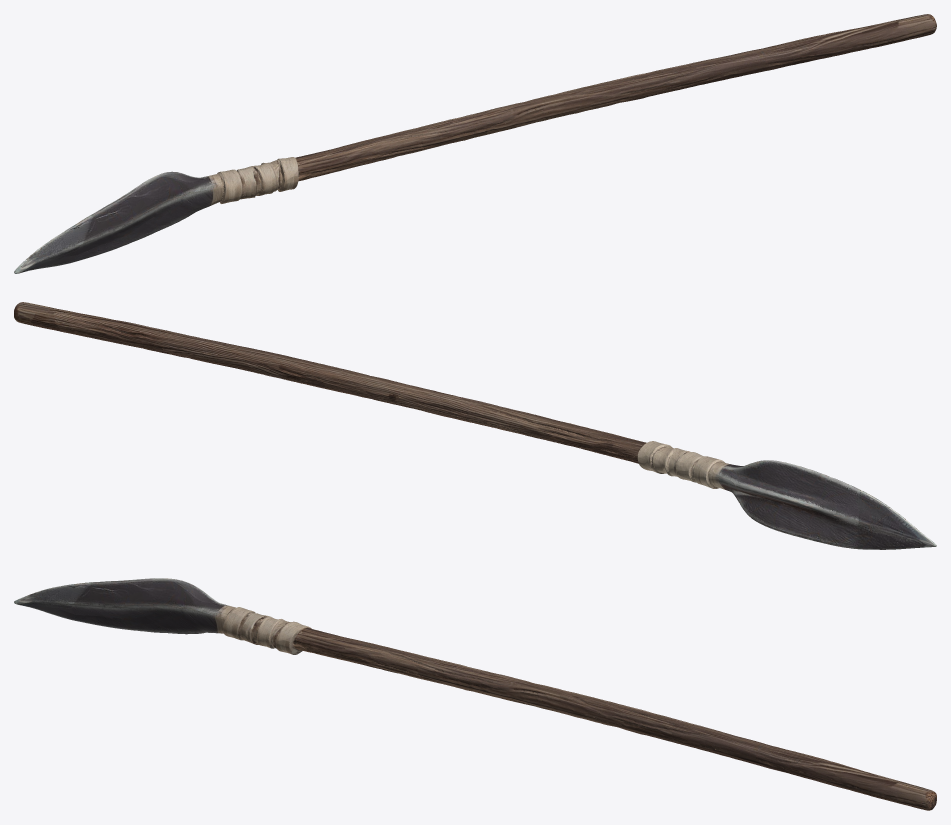
The model's file is hf_spear.glb.
3 views of the same model, one above another, from view 1: azimuth 30°, elevation 25°; view 2: azimuth 150°, elevation 25°; view 3: azimuth 330°, elevation 25° (orthographic).
Bounding box in the file's own units: 2.69 × 0.182 × 0.1244.
1 material, 1 textured.
